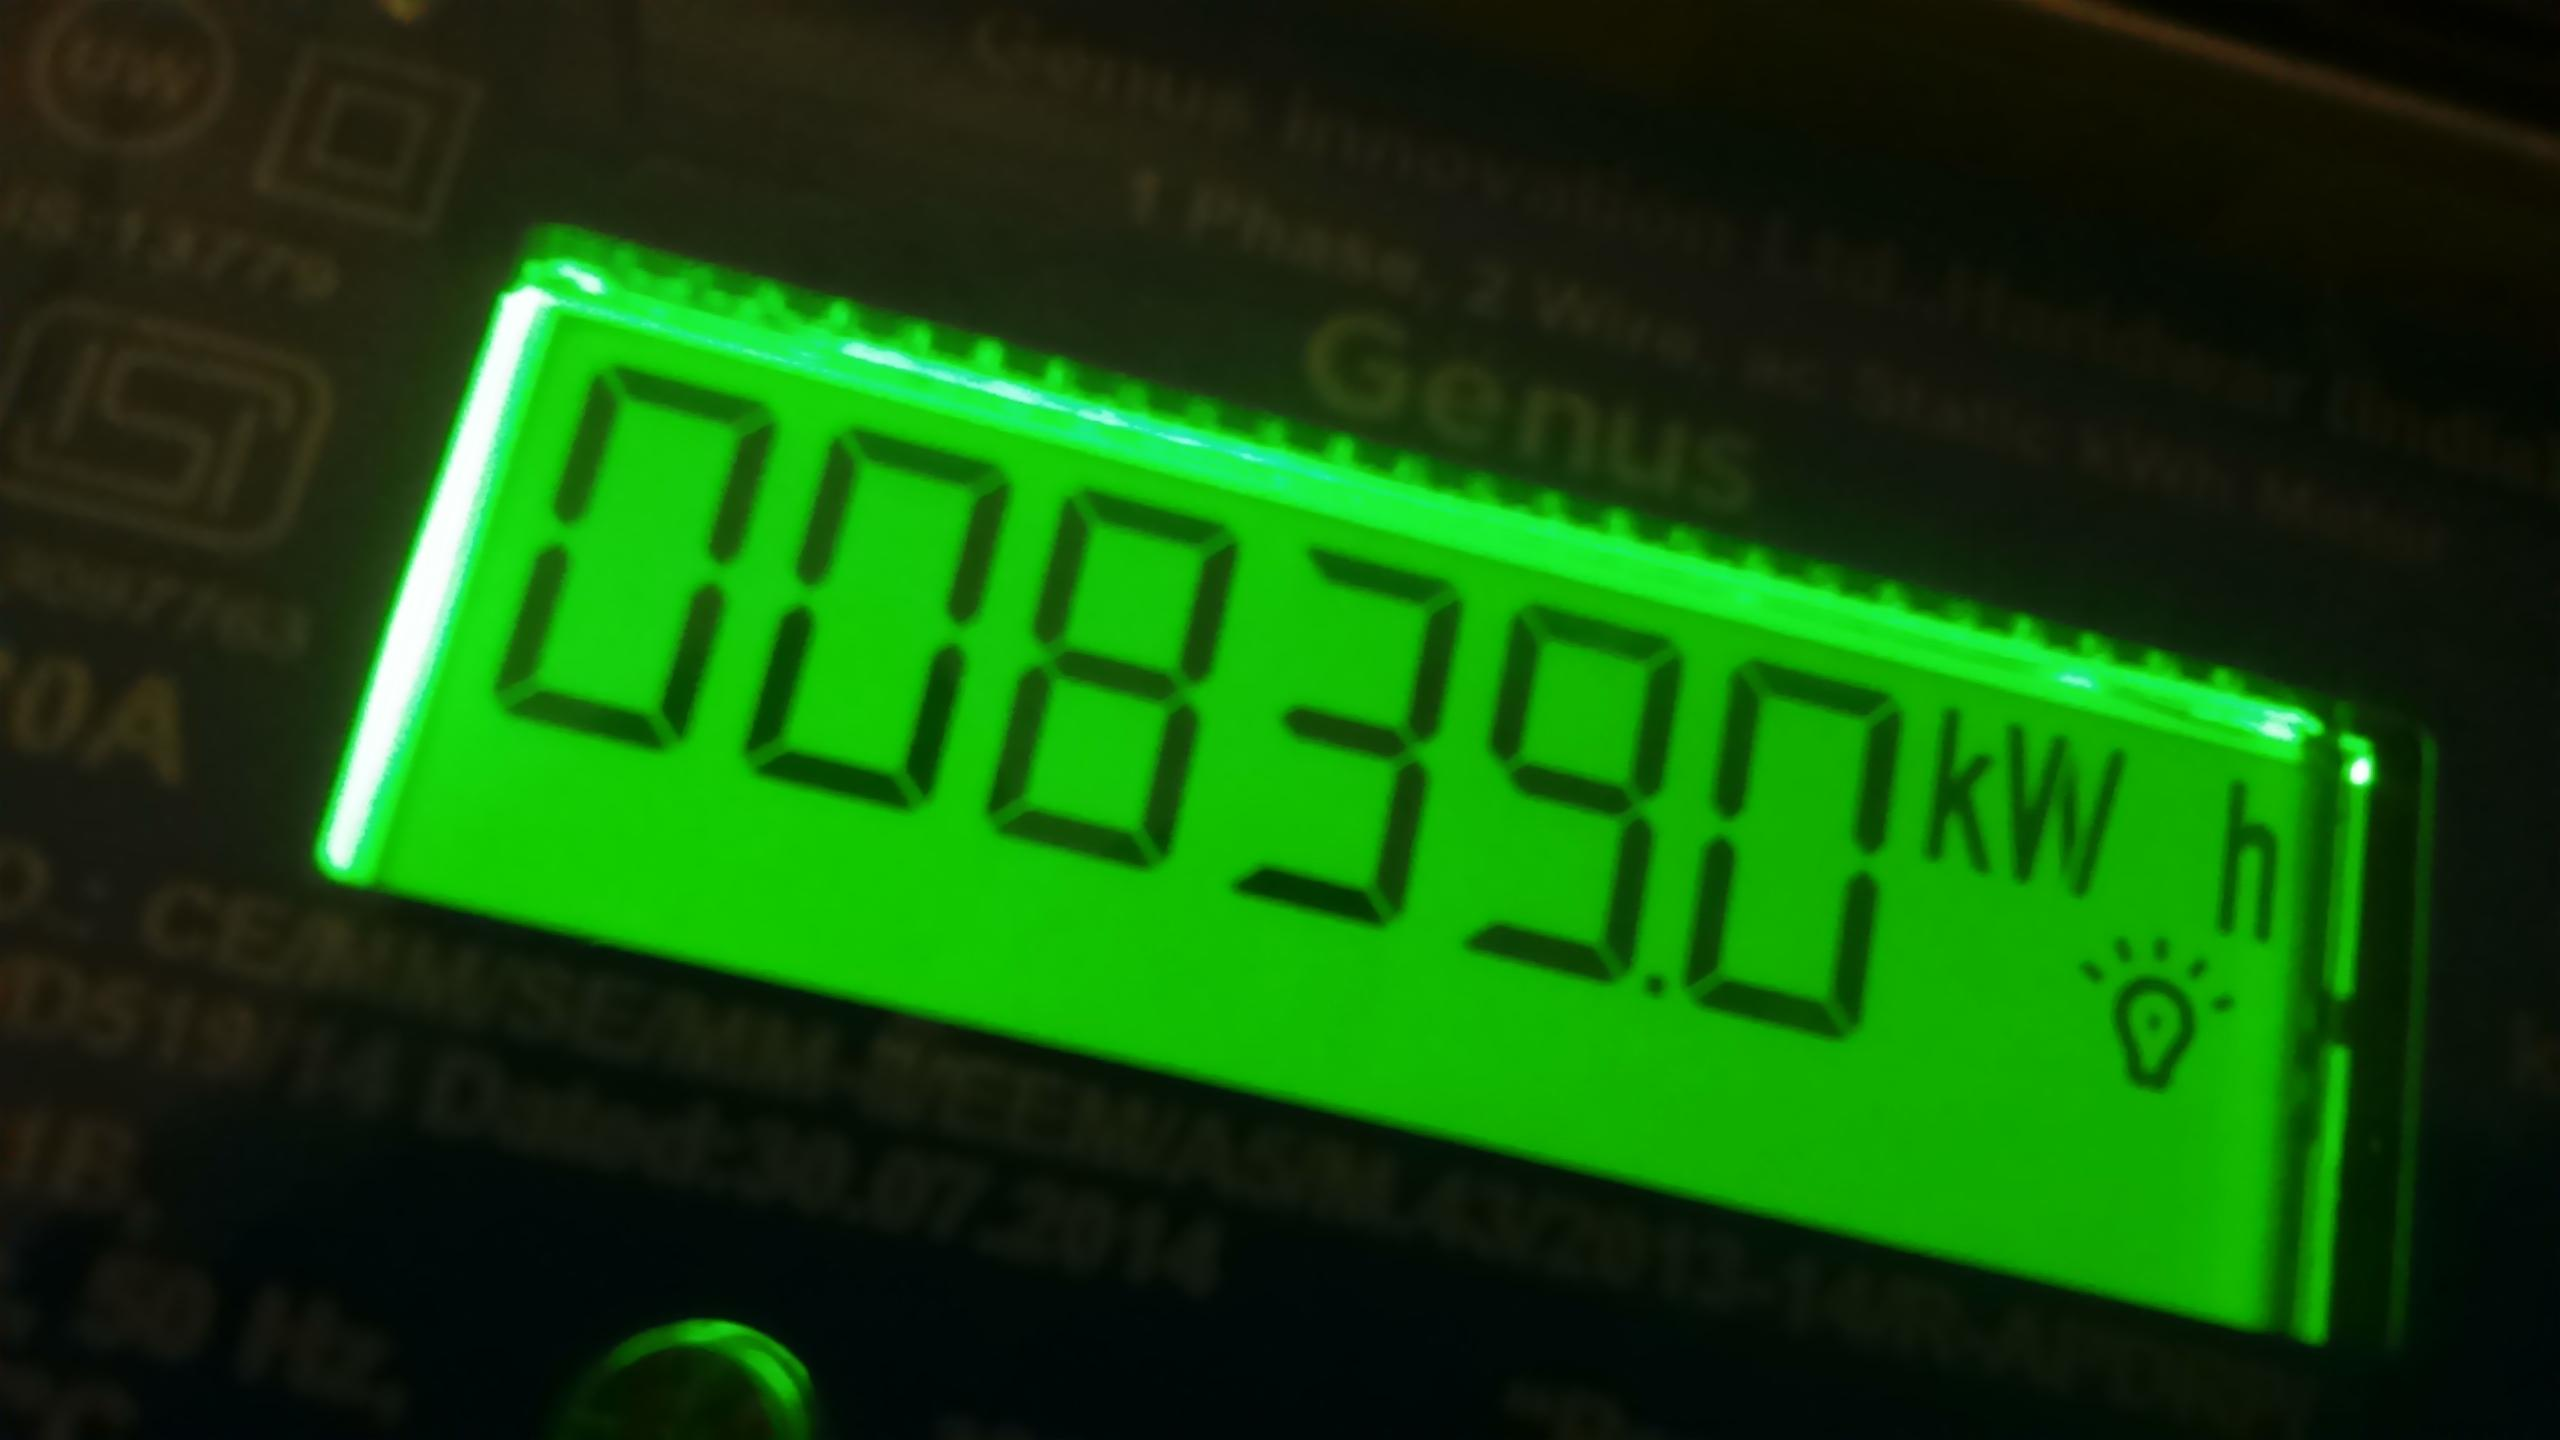.: (1916, 693, 2280, 964)
0: (1621, 923, 1691, 1025)
1: (478, 329, 791, 772), (728, 394, 1011, 839), (1681, 619, 1941, 1069)
4: (1224, 538, 1482, 965)
9: (985, 443, 1262, 909)
:: (1440, 584, 1713, 992)
